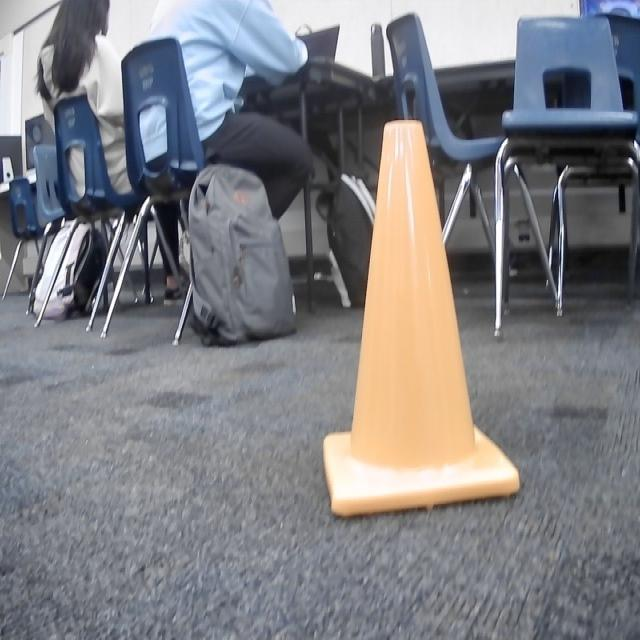cone: (319, 116, 522, 517)
